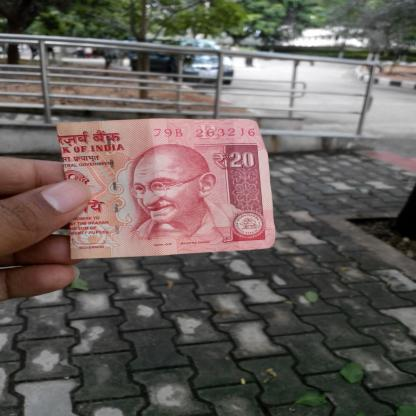Old20Front: (55, 130, 265, 252)
